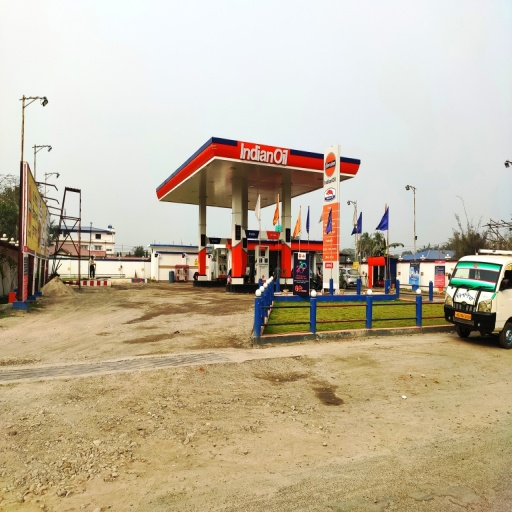roof: (157, 138, 361, 210)
